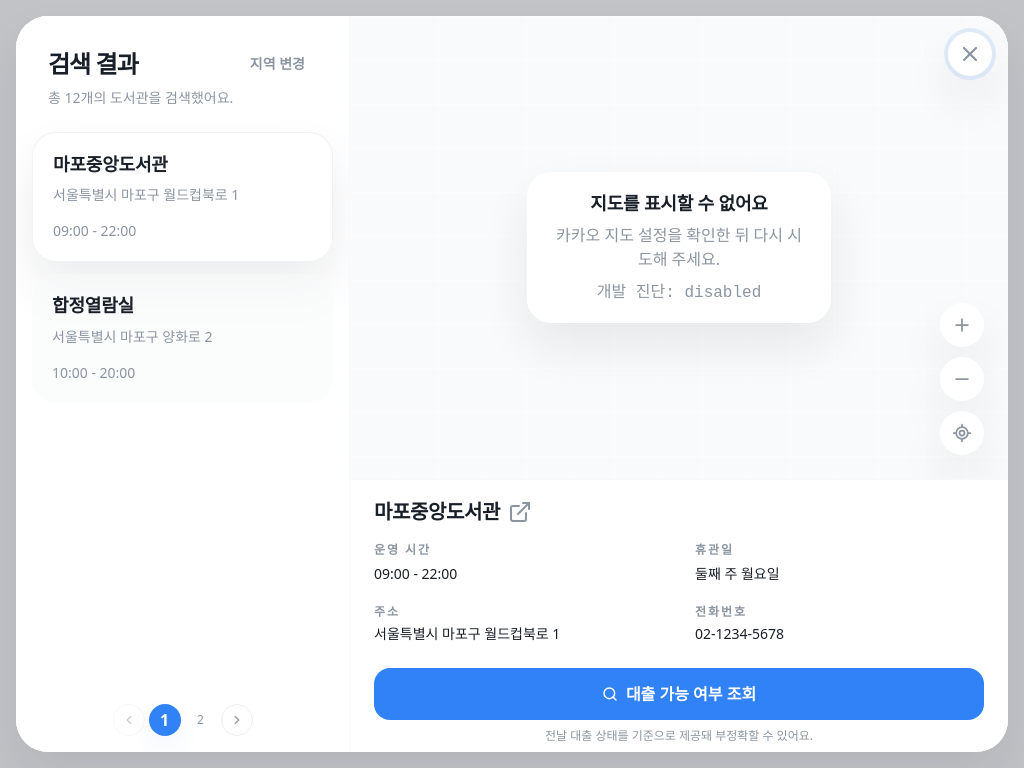
LibrarySearchResultDialog › 선택한 도서관의 대출 여부를 확인하는 동안에는 다시 누를 수 없다
What coordinates should you click on to do the following:
click the button "대출 가능 여부 조회"
I would click on:
 (679, 694)
Its box is [374,668,984,720].
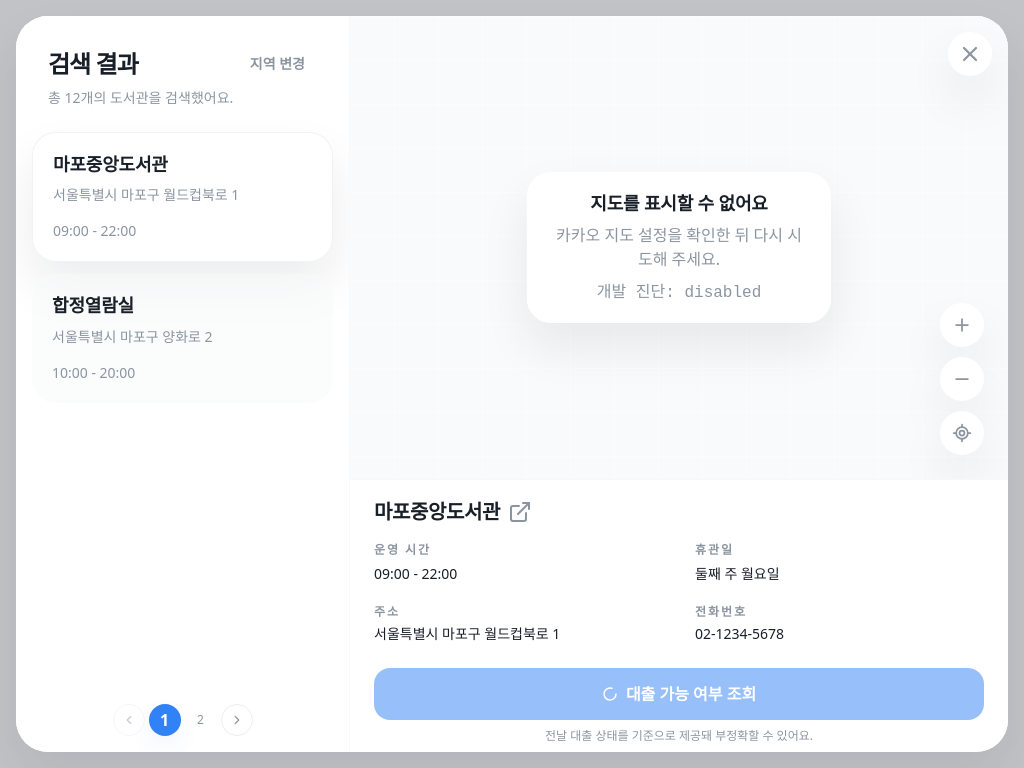
expect the icon with class "animate-spin" is shown: met, box [602,686,618,702]
expect the button "대출 가능 여부 조회" is disabled: met, box [374,668,984,720]
